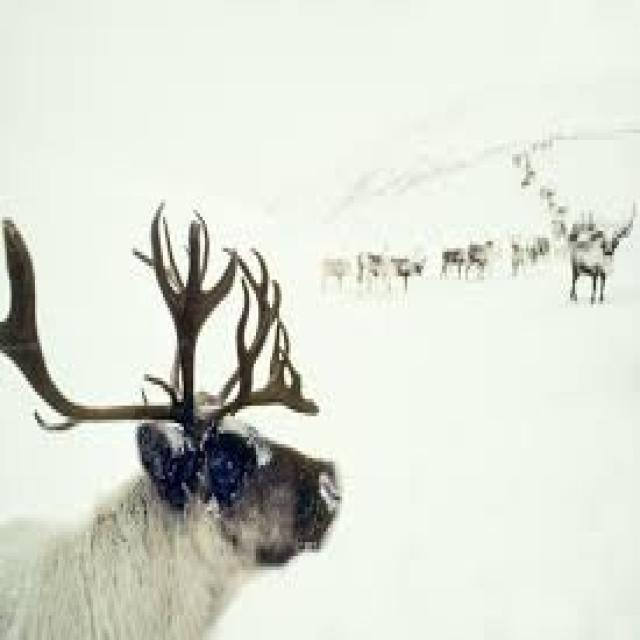Reindeer: (0, 199, 349, 640)
